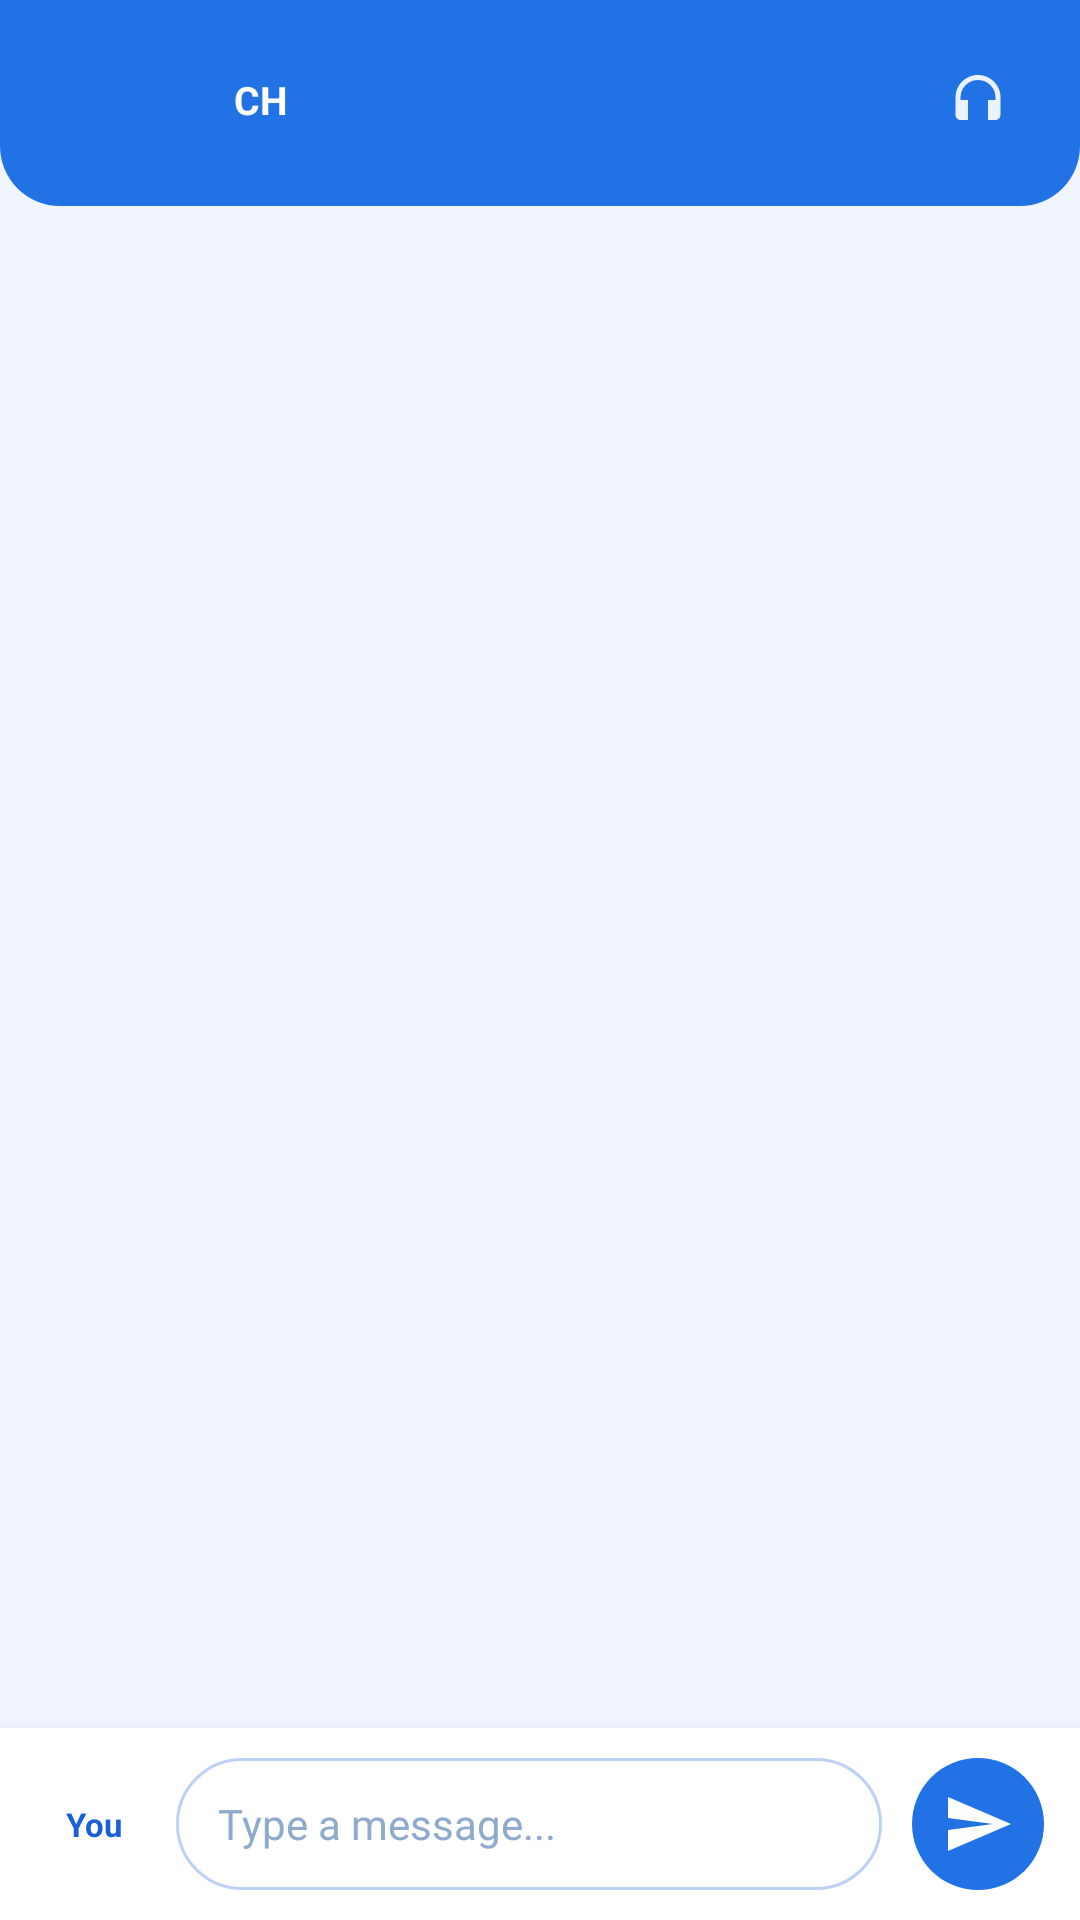

Icons on this 1080×1920 Android screen, each with its box as (x1, y1, x2, y2):
Send message: (912, 1758, 1044, 1890)
